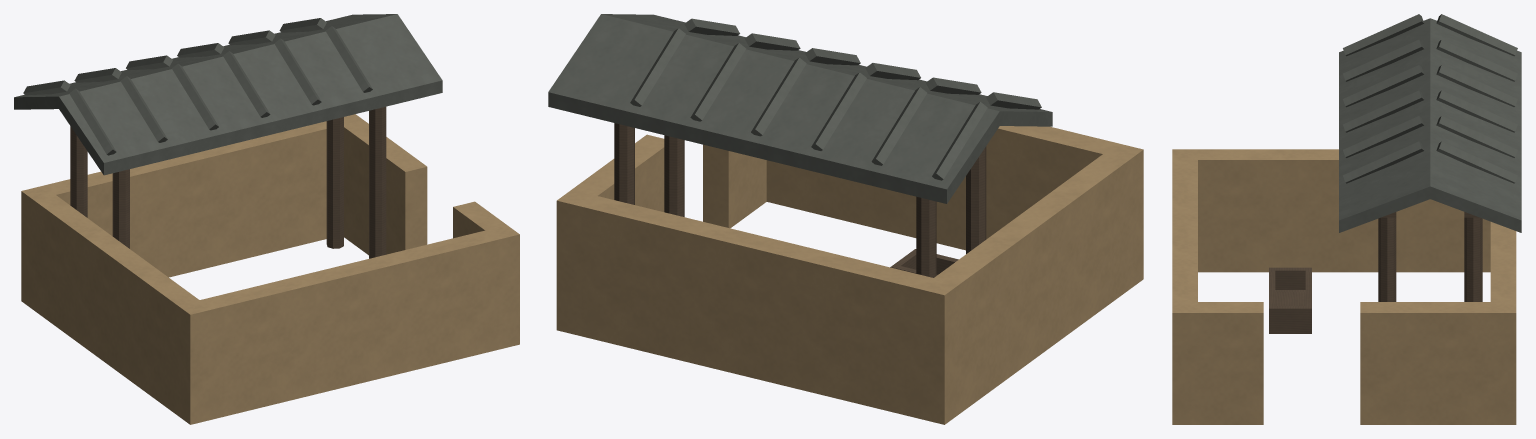
Rendered from service-enclosure-LOD1.glb.
The picture shows the model from 3 angles, left to right: view 1: azimuth 30°, elevation 25°; view 2: azimuth 150°, elevation 25°; view 3: azimuth 270°, elevation 25°; orthographic projection. The views are drawn at different scales.
Visible parts, largest first — view 1: service-enclosure_earth, service-enclosure_tile, service-enclosure_timber; view 2: service-enclosure_earth, service-enclosure_tile, service-enclosure_timber; view 3: service-enclosure_earth, service-enclosure_tile, service-enclosure_timber.
Part boxes in pixels (x1,y1,x2,y2): service-enclosure_earth: (21,114,519,424); service-enclosure_tile: (14,14,442,175); service-enclosure_timber: (70,106,386,258); service-enclosure_earth: (556,126,1143,424); service-enclosure_tile: (548,14,1052,203); service-enclosure_timber: (614,123,986,277); service-enclosure_earth: (1172,149,1516,424); service-enclosure_tile: (1339,14,1521,232); service-enclosure_timber: (1269,212,1482,333).
Size of the model in its own units: 3.7 by 2.57 by 3.25.
3 materials, 3 textured.
